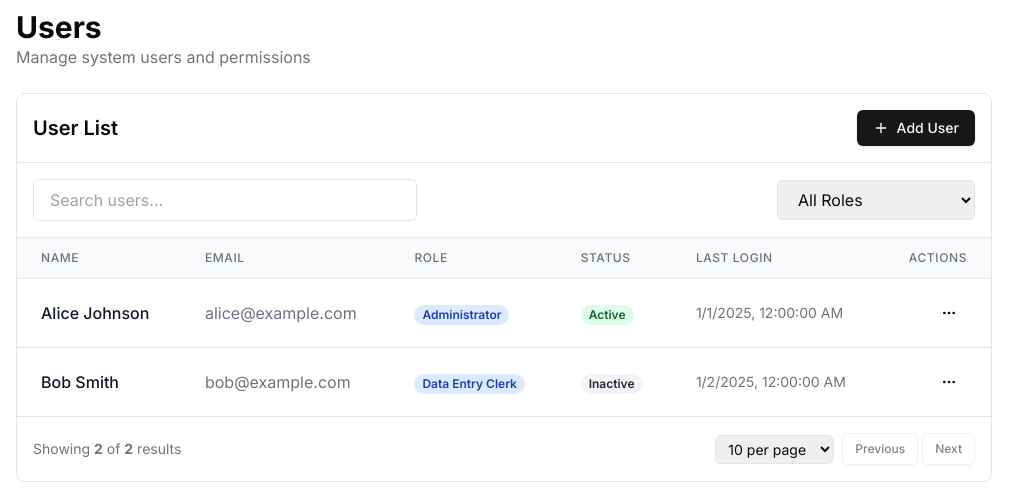
UsersPage › filters users by search input
This screenshot has width=1009, height=499.
Type "Alice" into the field with placeholder "Search users...".
click(225, 200); type("Alice")  # box left=33, top=179, right=417, bottom=221
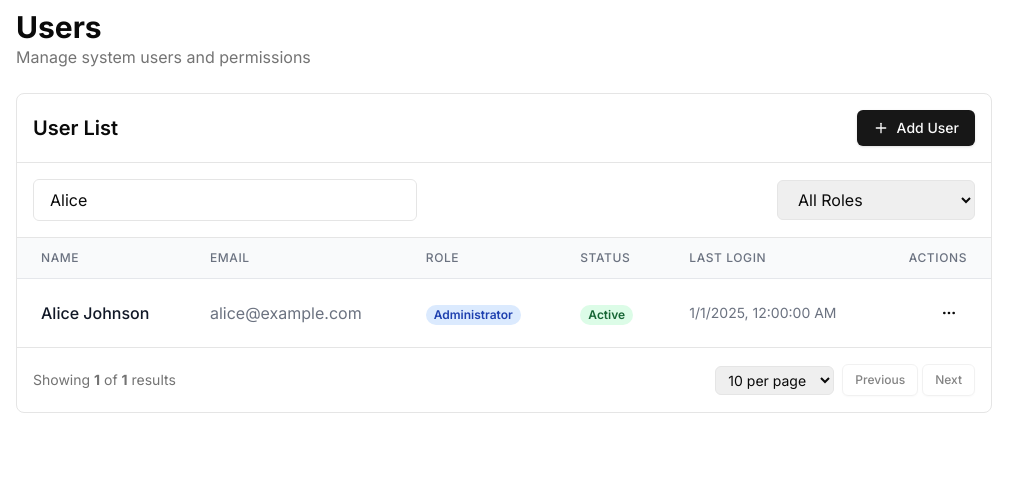
Expected: the text "Alice Johnson" is shown, left=41, top=301, right=162, bottom=325
Expected: the text "Bob Smith" is gone
